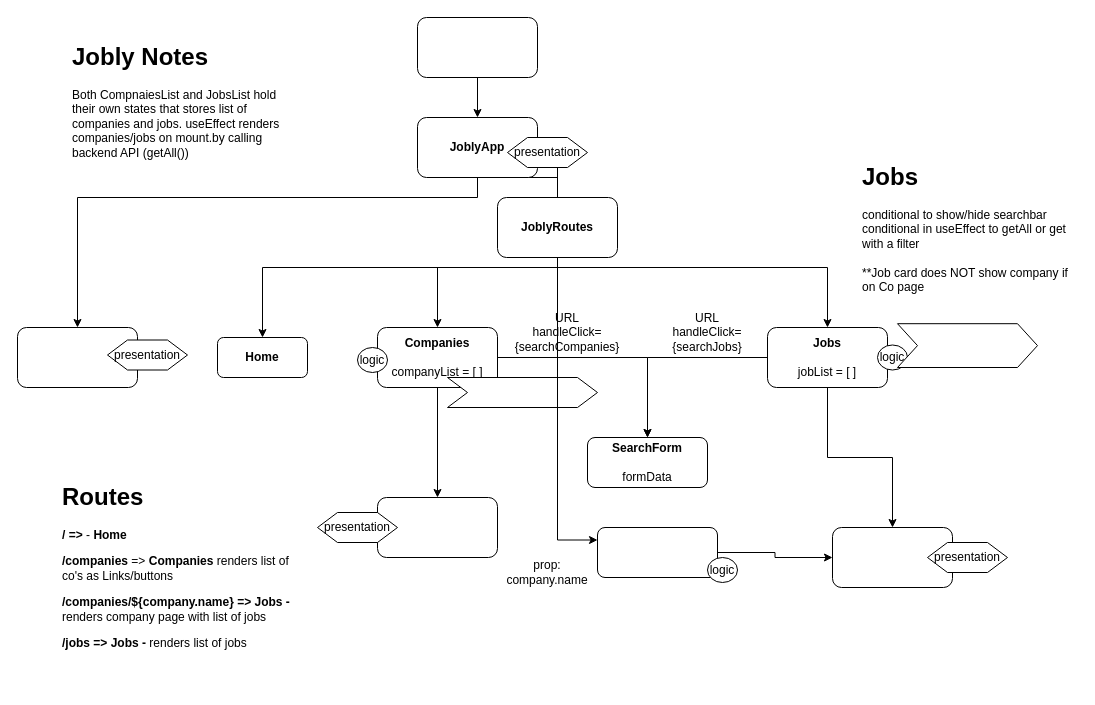
Image size: 1095x705. Some labels were removed from this diagram. The centre of each missing label's shape, as x and y in pixels:
"APP" belongs at pixel 477 47.
"CompanyCard" belongs at pixel 437 527.
"CompanyDetail company = { }" belongs at pixel 657 552.
"Job" belongs at pixel 892 557.
"Navbar" belongs at pixel 77 357.
"useEffect() 1. get all jobs" belongs at pixel 967 345.
"useEffect() 1. getAll companies" belongs at pixel 522 392.
